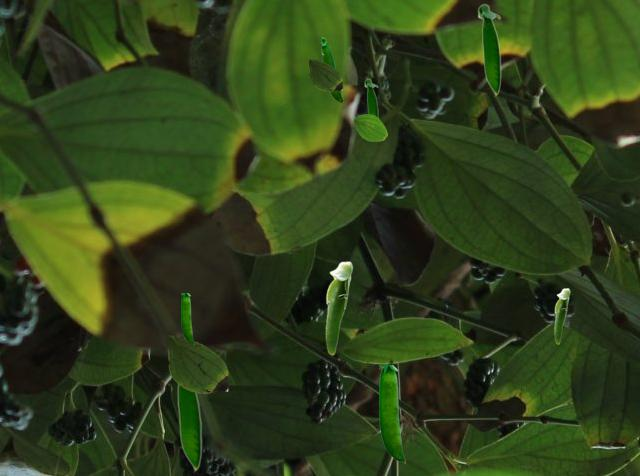pea: (325, 261, 352, 354), (379, 365, 404, 462), (175, 384, 201, 472), (477, 3, 500, 96), (321, 37, 342, 101), (554, 288, 569, 343), (181, 293, 193, 343), (364, 78, 377, 115)
